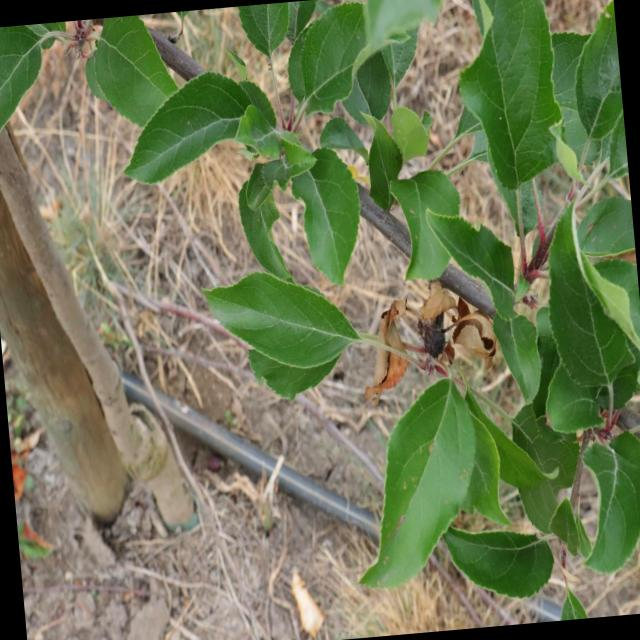-FireBlight-: (368, 279, 510, 389)
